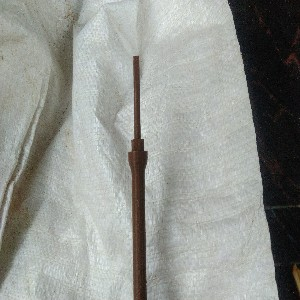obeng: (127, 54, 149, 300)
